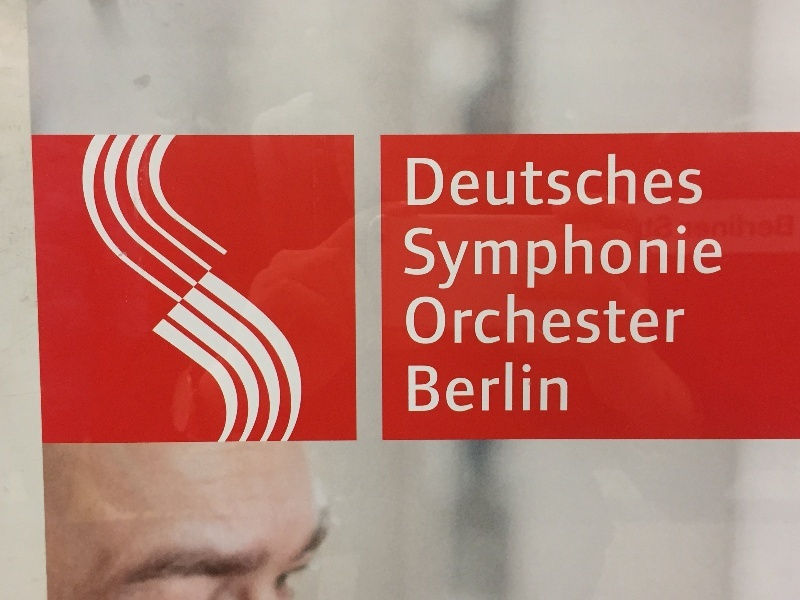text: (417, 224, 432, 292), (433, 224, 448, 292), (449, 224, 464, 292), (465, 224, 480, 292), (481, 224, 496, 292), (497, 224, 512, 292), (513, 224, 528, 292), (529, 224, 544, 292), (545, 224, 560, 292), (561, 224, 576, 292), (577, 224, 592, 292), (593, 224, 608, 292), (609, 224, 624, 292), (625, 224, 640, 292), (641, 224, 656, 292), (657, 224, 672, 292), (673, 224, 688, 292), (689, 224, 704, 292), (705, 224, 720, 292), (673, 287, 689, 348), (417, 287, 432, 348), (433, 287, 448, 348), (449, 287, 464, 348), (465, 287, 480, 348), (481, 287, 496, 348), (497, 287, 512, 348), (513, 287, 528, 348), (529, 287, 544, 348), (545, 287, 560, 348), (561, 287, 576, 348), (577, 287, 592, 348), (593, 287, 608, 348), (609, 287, 624, 348), (625, 287, 640, 348), (641, 287, 656, 348), (657, 287, 672, 348), (417, 154, 432, 210), (433, 154, 448, 210), (449, 154, 464, 210), (465, 154, 480, 210), (481, 154, 496, 210), (497, 154, 512, 210), (513, 154, 528, 210), (529, 154, 544, 210), (545, 154, 560, 210), (561, 154, 576, 210), (577, 154, 592, 210), (593, 154, 608, 210), (609, 154, 624, 210), (625, 154, 640, 210), (641, 154, 656, 210), (657, 154, 672, 210), (673, 154, 688, 210), (689, 154, 704, 210), (404, 224, 416, 292), (417, 362, 432, 414), (433, 362, 448, 414), (449, 362, 464, 414), (465, 362, 480, 414), (481, 362, 496, 414), (497, 362, 512, 414), (513, 362, 528, 414), (529, 362, 544, 414), (545, 362, 560, 414), (405, 287, 416, 348), (406, 154, 416, 210), (408, 362, 416, 414), (561, 362, 569, 414), (721, 224, 723, 292), (705, 154, 707, 210)
